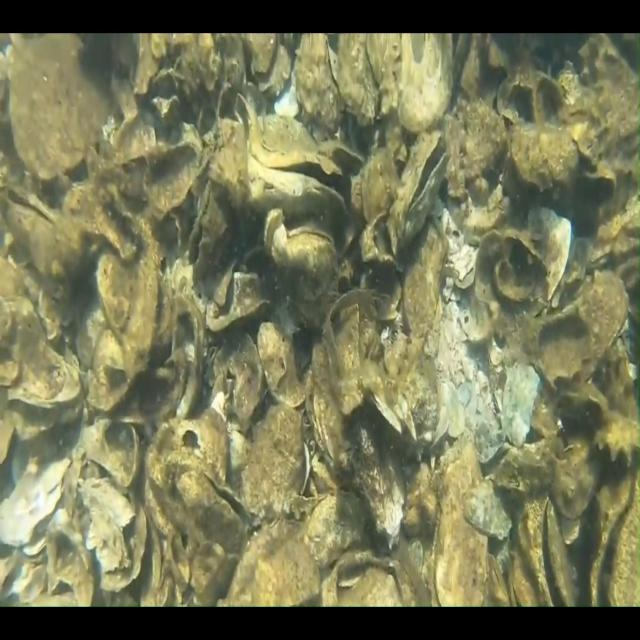Oyster- Indeterminate: (566, 271, 628, 378), (541, 209, 591, 308), (145, 142, 199, 216), (554, 377, 607, 433), (593, 410, 640, 457)
Oyster-Closed: (10, 36, 108, 180), (0, 296, 82, 440), (96, 249, 159, 361), (8, 189, 84, 278), (329, 33, 400, 127), (0, 458, 70, 547), (435, 491, 488, 607), (324, 289, 381, 382), (321, 551, 415, 607), (399, 33, 452, 132), (264, 209, 336, 276), (511, 124, 579, 191), (170, 409, 229, 484), (609, 476, 640, 607), (258, 322, 305, 407), (304, 493, 354, 569), (206, 271, 266, 331), (242, 33, 291, 98)
Oyster-Open: (509, 498, 575, 607), (245, 102, 341, 176), (391, 131, 448, 250)
